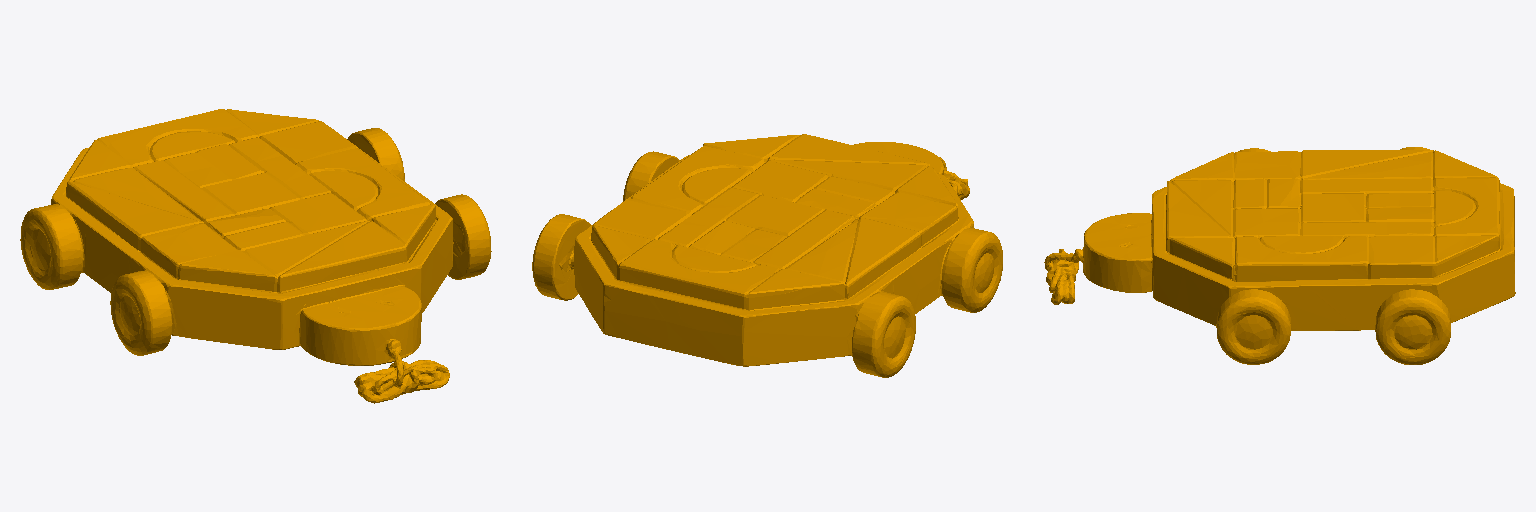
URDF robot description (Melissa_Doug_Cart_Turtle_Block):
<?xml version="1.0" ?>
<robot name="Melissa_Doug_Cart_Turtle_Block">
  <link name="link_0">
    <inertial>
      <origin xyz="0 0 0" rpy="0 0 0"/>
      <mass value="1.0"/>
      <inertia ixx="0.1" ixy="0.0" ixz="0.0" iyy="0.1" iyz="0.0" izz="0.1"/>
    </inertial>
    <visual name="visual">
      <origin xyz="0 0 0" rpy="0 0 0"/>
      <geometry>
        <mesh filename="meshes/model.obj"/>
      </geometry>
    </visual>
    <collision name="collision_0">
      <origin xyz="0 0 0" rpy="0 0 0"/>
      <geometry>
        <mesh filename="meshes/model.obj"/>
      </geometry>
    </collision>
  </link>
</robot>

--- Render facts (derived) ---
Views: 3 orthographic renders of the robot side by side, from view 1: azimuth 30°, elevation 25°; view 2: azimuth 150°, elevation 25°; view 3: azimuth 270°, elevation 25°.
Robot: Melissa_Doug_Cart_Turtle_Block — 1 links, 0 joints (none); root link link_0; default pose: all joints at 0.
Links seen in each view (by area): view 1: link_0; view 2: link_0; view 3: link_0.
Boxes of the visible links, left/top/right/bottom form: link_0: left=20, top=109, right=491, bottom=403; link_0: left=532, top=134, right=1002, bottom=377; link_0: left=1044, top=147, right=1515, bottom=364.
Bounding box of the posed robot: 0.2732 × 0.3522 × 0.0697 m (x, y, z).
Meshes: 1 distinct files referenced, 1 mesh visuals loaded (1 OBJ).
